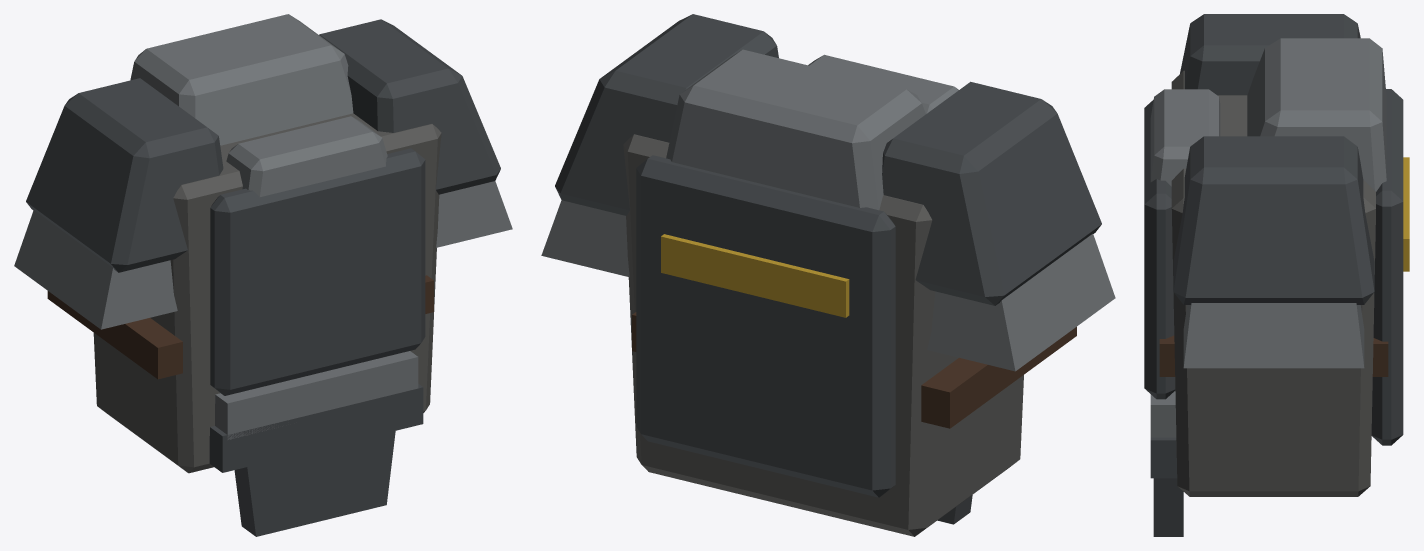
Rendered from item_riot_armor.glb.
3 views of the same model, side by side, from view 1: azimuth 30°, elevation 25°; view 2: azimuth 150°, elevation 25°; view 3: azimuth 270°, elevation 25° (orthographic). The views are drawn at different scales.
Parts seen in each view (by area): view 1: riot_armor; view 2: riot_armor; view 3: riot_armor.
Boxes of the visible parts, x1,y1,x2,y2 form: riot_armor: [14, 14, 512, 536]; riot_armor: [541, 14, 1115, 536]; riot_armor: [1144, 14, 1409, 536].
Size of the model in its own units: 0.82 by 0.787 by 0.44.
